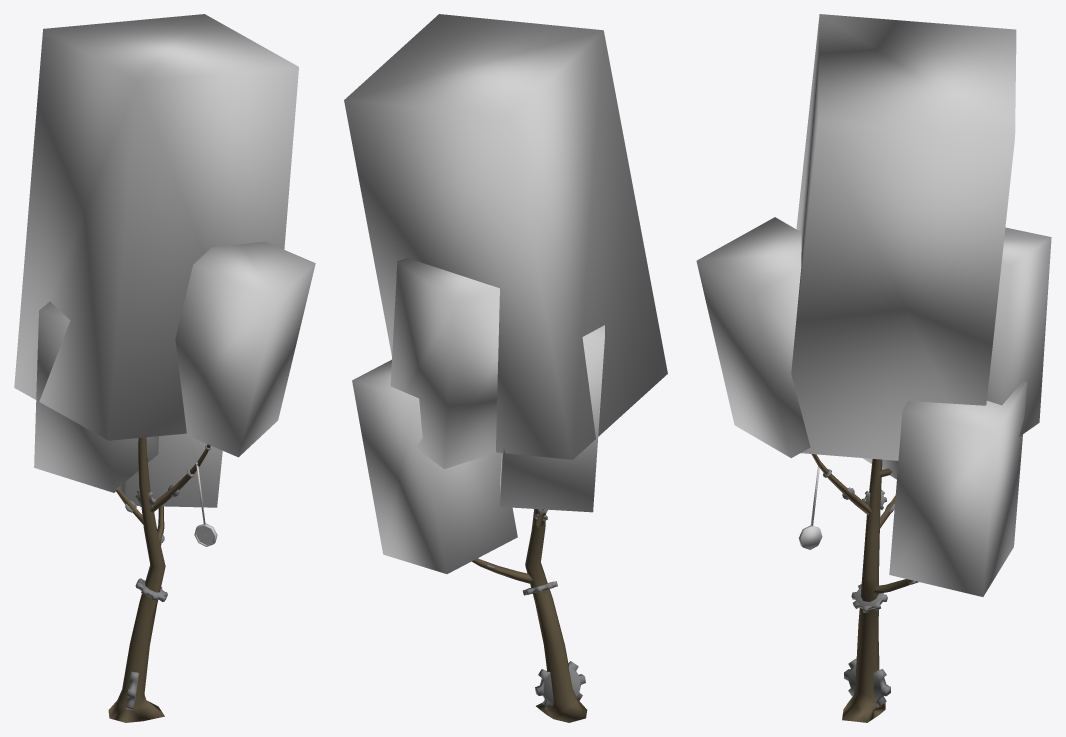
The model's file is sm_tree_clockwork_03_LOD2.fbx.
3 renders of one model, left to right at view 1: azimuth 30°, elevation 25°; view 2: azimuth 150°, elevation 25°; view 3: azimuth 270°, elevation 25°, orthographic. The views are drawn at different scales.
Parts seen in each view (by area): view 1: sm_tree_clockwork_03_LOD2; view 2: sm_tree_clockwork_03_LOD2; view 3: sm_tree_clockwork_03_LOD2.
Boxes of the visible parts, <box> form: sm_tree_clockwork_03_LOD2: <box>14,14,315,722</box>; sm_tree_clockwork_03_LOD2: <box>344,14,667,722</box>; sm_tree_clockwork_03_LOD2: <box>696,14,1051,722</box>.
Bounding box in the file's own units: 5.19 × 7.19 × 15.33.
